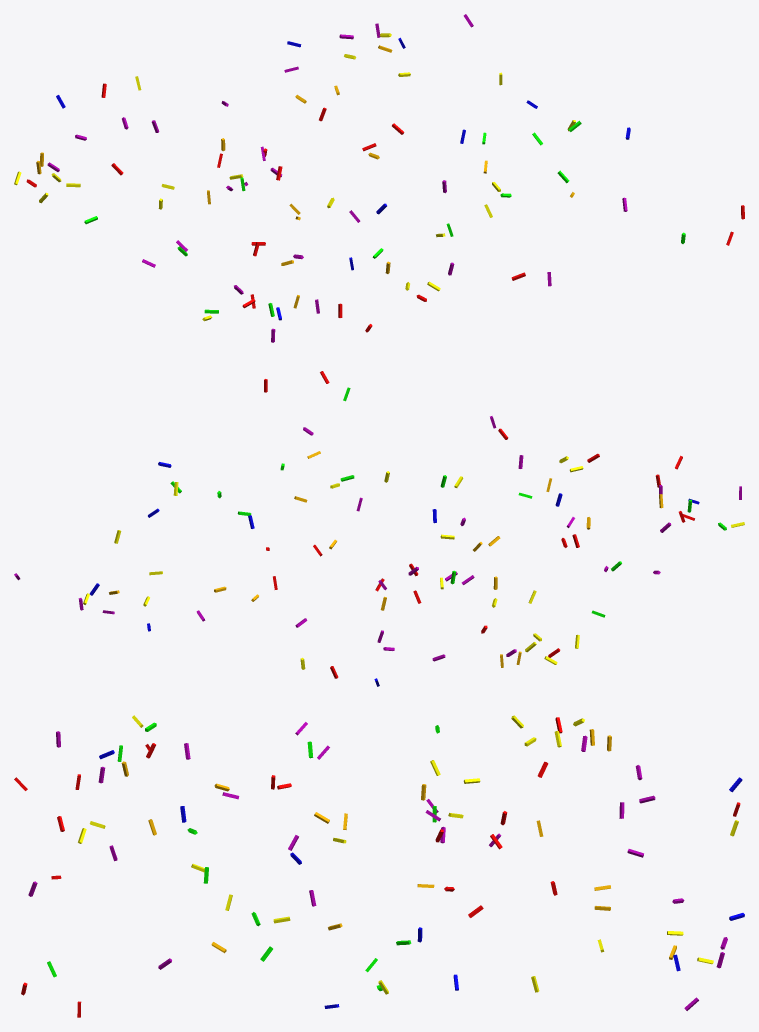
The model's file is rainbow_square1.glb.
3 renders of one model, top to bottom at view 1: azimuth 30°, elevation 25°; view 2: azimuth 150°, elevation 25°; view 3: azimuth 270°, elevation 25°, orthographic. The views are drawn at different scales.
Bounding box in the file's own units: 2.12 × 0.0519 × 2.24.
